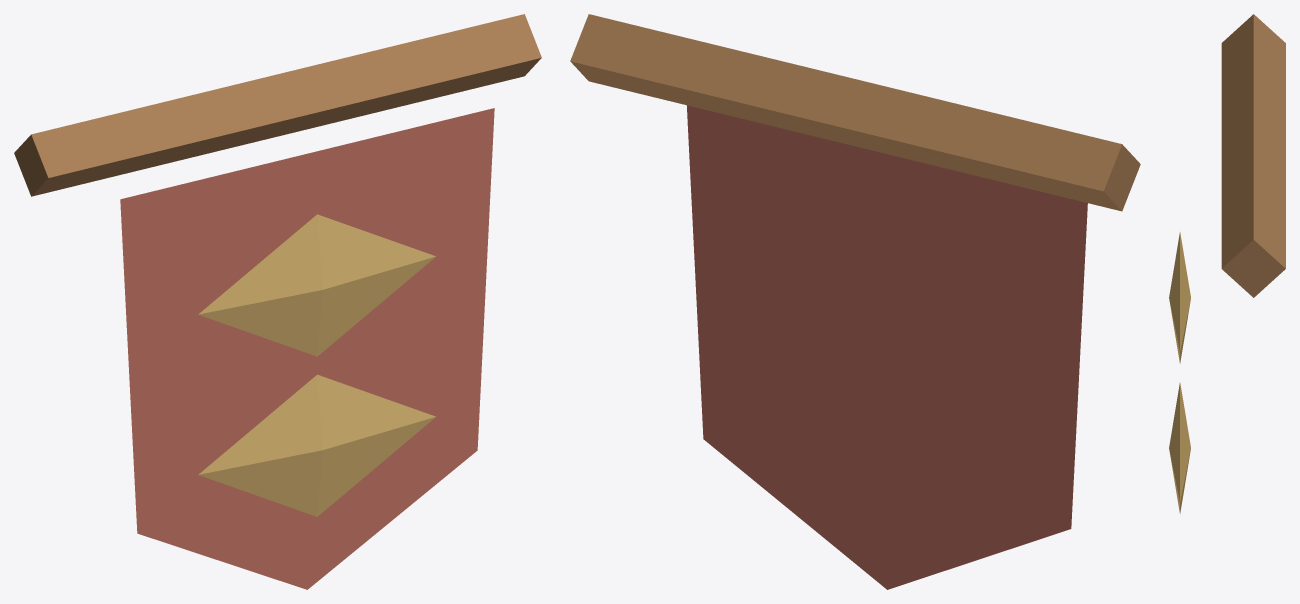
The model's file is Desert_Ornament.fbx.
3 views of the same model, side by side, from view 1: azimuth 30°, elevation 25°; view 2: azimuth 150°, elevation 25°; view 3: azimuth 270°, elevation 25° (orthographic). The views are drawn at different scales.
Visible parts, largest first — view 1: Desert_Ornament; view 2: Desert_Ornament; view 3: Desert_Ornament.
Boxes of the visible parts, box(x1,y1,x2,y2) form: Desert_Ornament: box(14, 14, 541, 589); Desert_Ornament: box(570, 14, 1140, 589); Desert_Ornament: box(1169, 14, 1285, 513).
Bounding box in the file's own units: 58 × 55.5 × 12.7.
